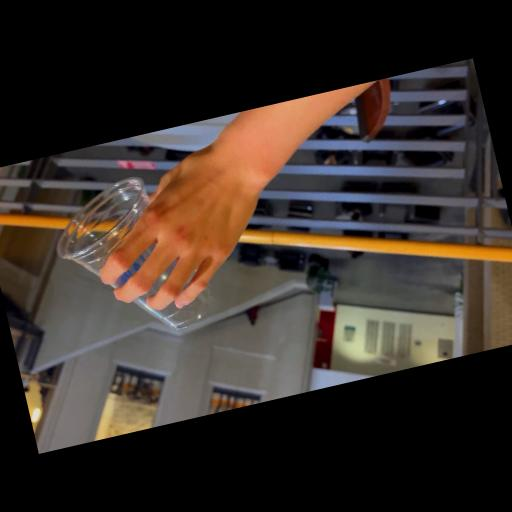lp_plastic_cup: (43, 168, 217, 354)
